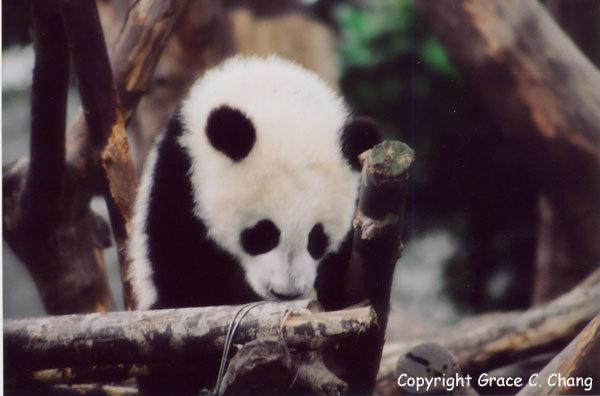panda: (127, 55, 379, 309)
